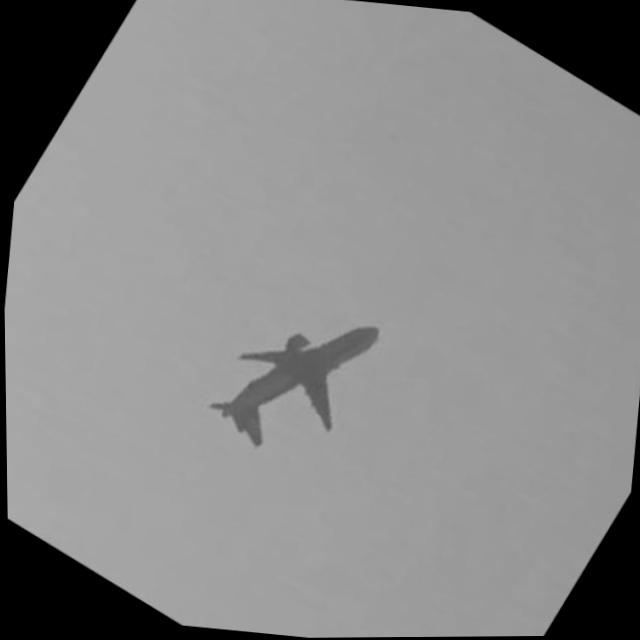aeroplane: (191, 262, 395, 484)
